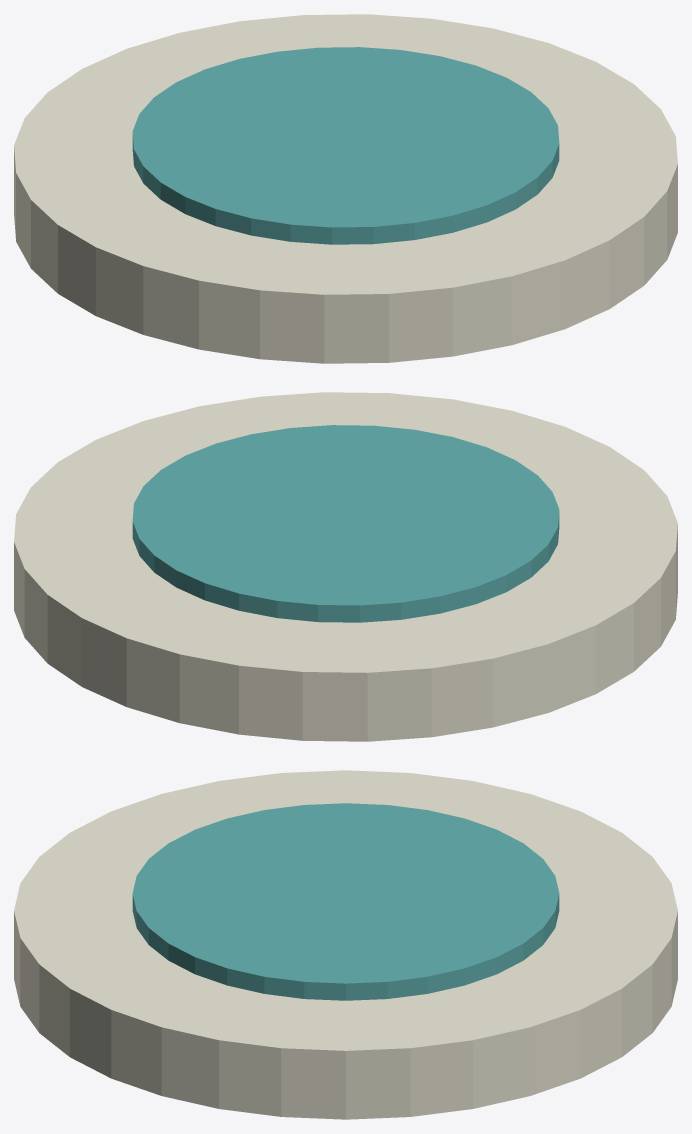
Rendered from item_plate.fbx.
3 views of the same model, one above another, from view 1: azimuth 30°, elevation 25°; view 2: azimuth 150°, elevation 25°; view 3: azimuth 270°, elevation 25° (orthographic).
Parts seen in each view (by area): view 1: item_plate, item_plate_Well; view 2: item_plate, item_plate_Well; view 3: item_plate, item_plate_Well.
Part boxes in pixels (x1,y1,x2,y2): item_plate: (14,14,677,363); item_plate_Well: (132,47,559,244); item_plate: (14,392,677,741); item_plate_Well: (132,425,559,622); item_plate: (14,770,677,1119); item_plate_Well: (132,803,559,1000).
Size of the model in its own units: 0.14 by 0.02 by 0.14.
